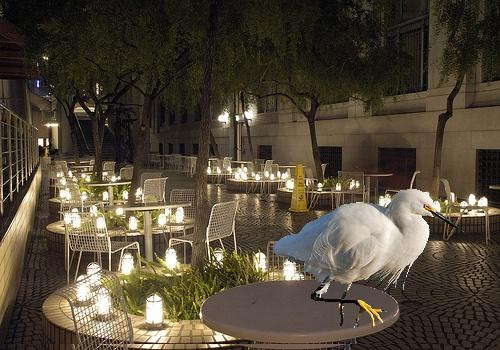tampered: (274, 190, 464, 328)
